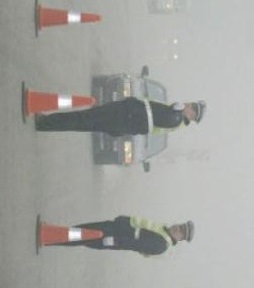person: (43, 210, 196, 260), (31, 96, 214, 136)
